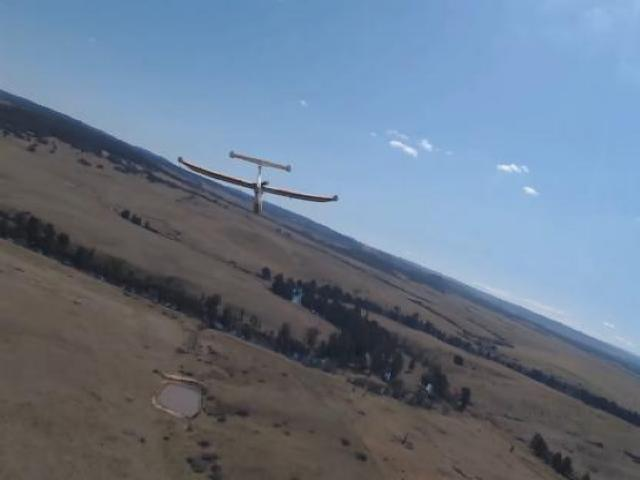uav: (181, 150, 341, 218)
